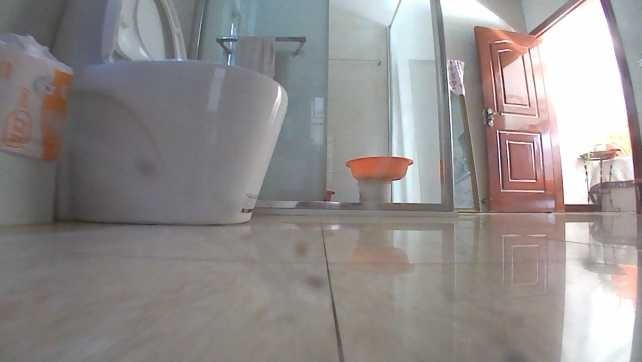door_anno: (471, 24, 559, 214)
toilet: (50, 0, 292, 227)
